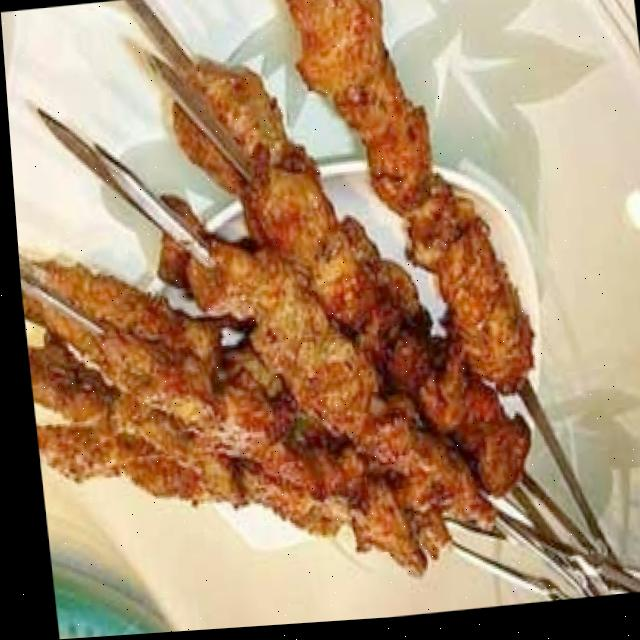烧串烤肉: (0, 0, 610, 640)
